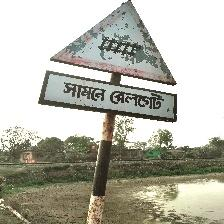Rail-crossing: (40, 0, 179, 122)
